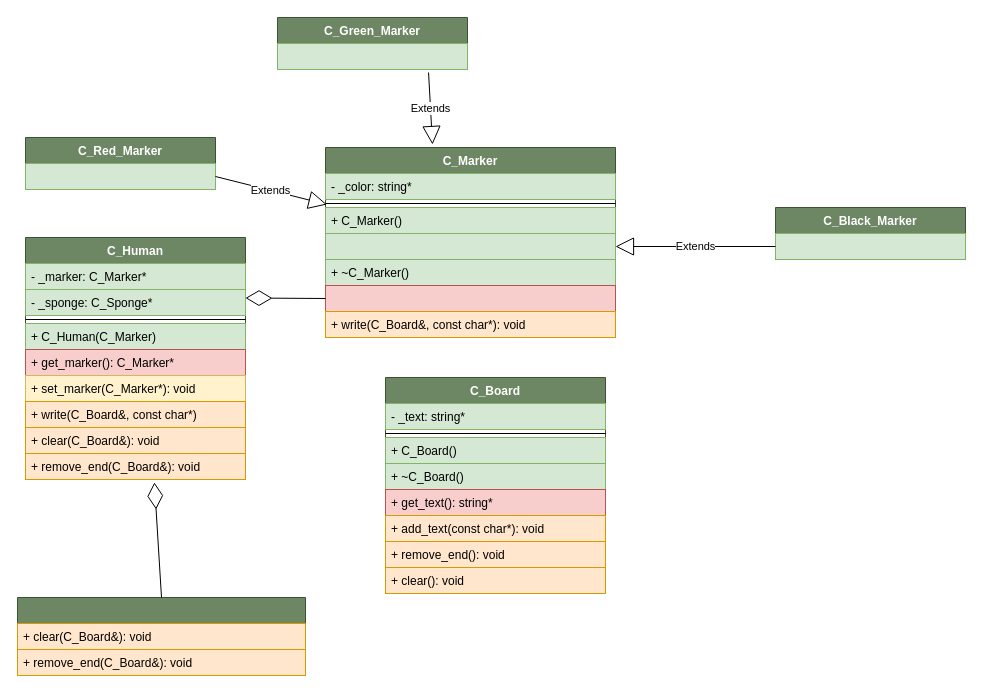
Some shapes in this 983 by 696 pixel diagram are drawn without their labels. The box of each missing label's shape, as (x1, y1, x2, y2) in pixels:
# C_Marker(string): (324, 232, 616, 260)
+ C_Black_Marker(): base("red"): (774, 232, 966, 260)
+ C_Green_Marker(): base("red"): (276, 42, 468, 70)
+ C_Red_Marker(): base("red"): (24, 162, 216, 190)
+ get_color(): string*: (324, 284, 616, 312)
C_Sponge: (16, 596, 306, 676)
